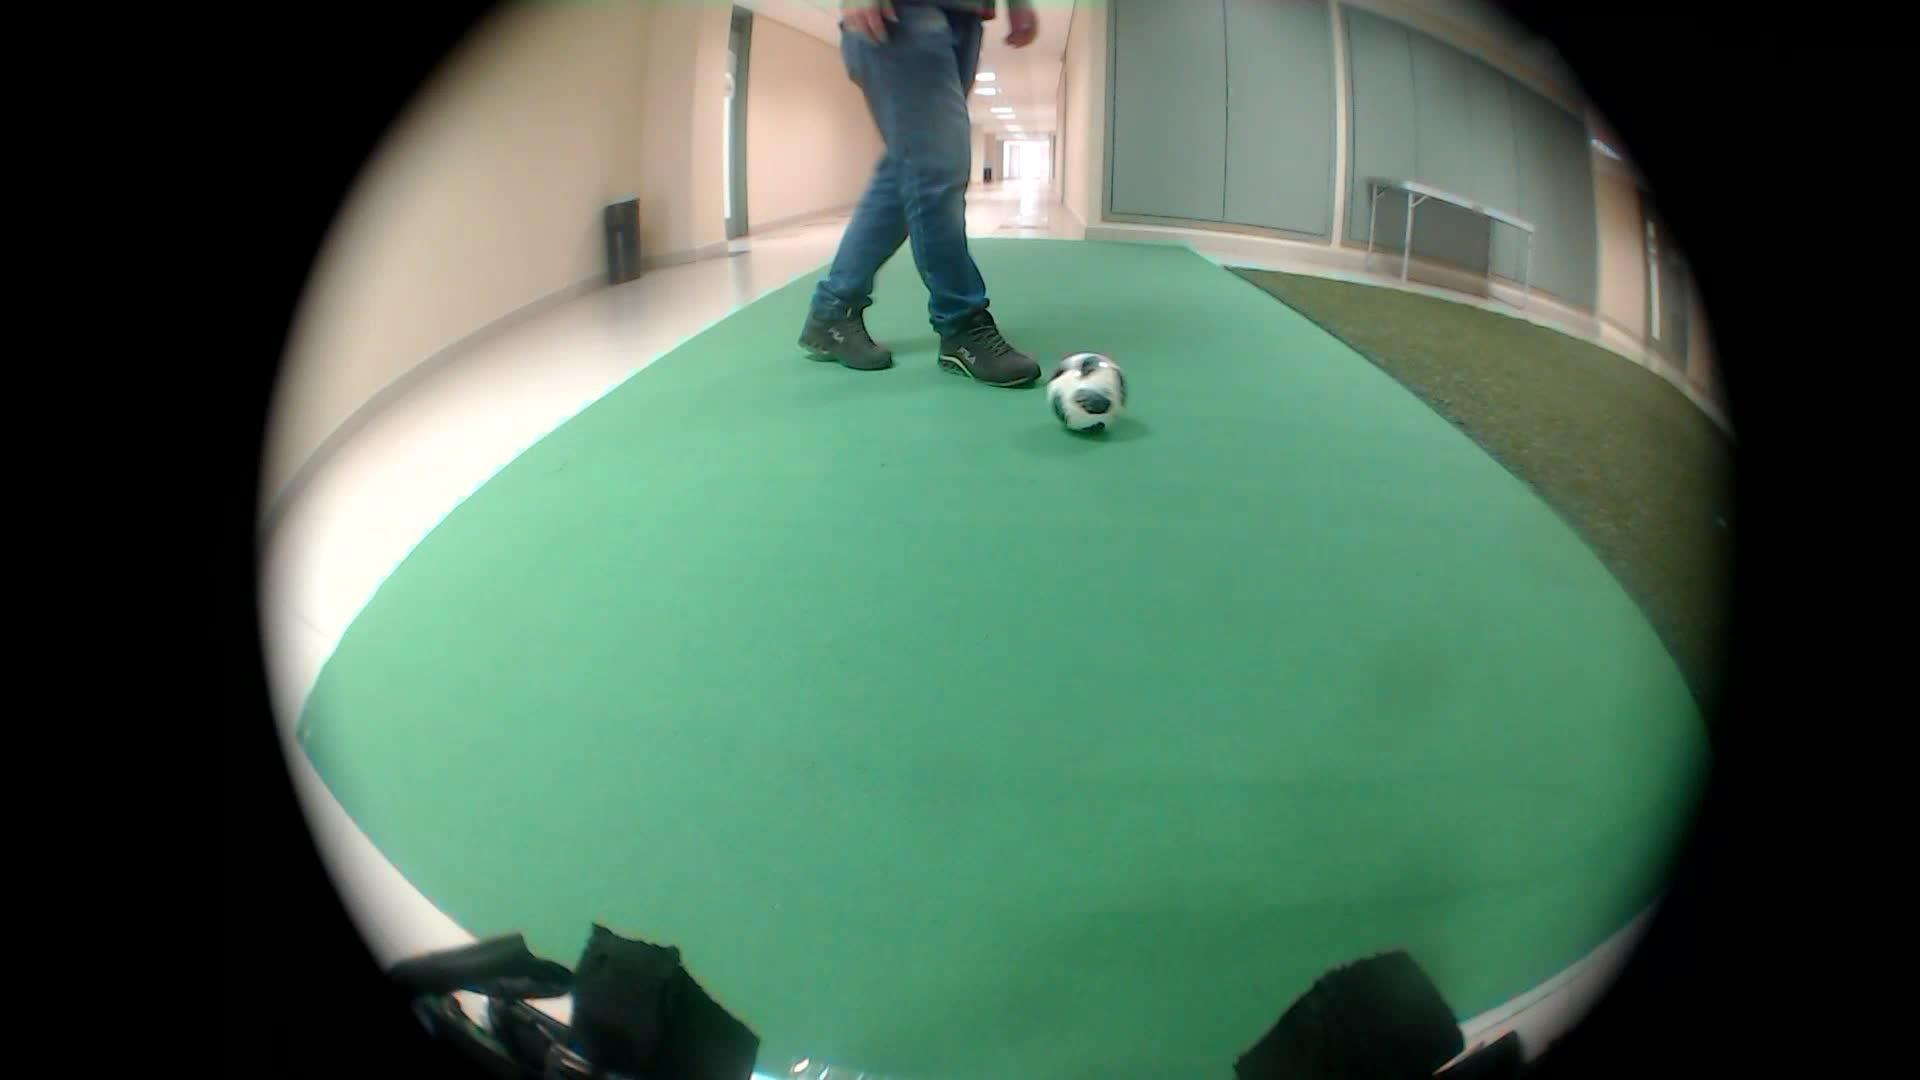ball: (1038, 344, 1150, 443)
